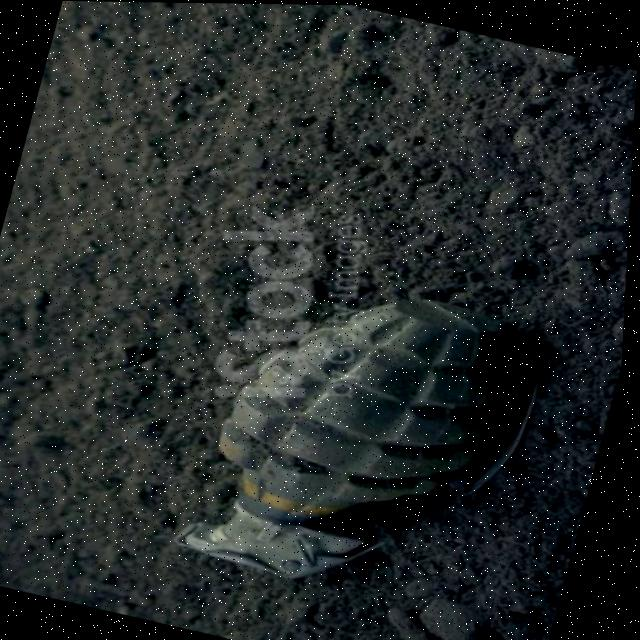grenade: (118, 215, 609, 640)
